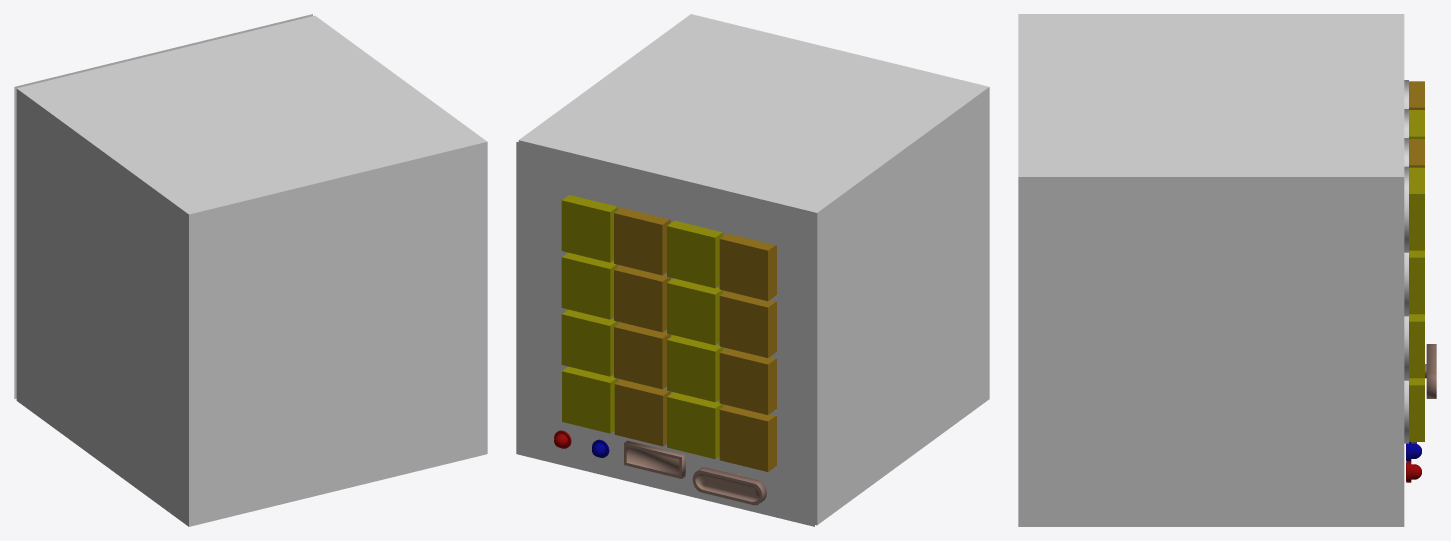
Rendered from Pipe Puzzle_P1_Box 03.FBX.
3 views of the same model, side by side, from view 1: azimuth 30°, elevation 25°; view 2: azimuth 150°, elevation 25°; view 3: azimuth 270°, elevation 25° (orthographic). The views are drawn at different scales.
Visible parts, largest first — view 1: Box Size001, Puzzle Plane 002 low; view 2: Box Size001, Puzzle Plane 002 low, pipe button 16, pipe button 14, pipe button 15, pipe button 13, pipe button 08, pipe button 12, pipe button 04, pipe button 06, pipe button 02, pipe button 10 (+8 smaller); view 3: Box Size001, Puzzle Plane 002 low, pipe button 04, pipe button 02, pipe button 03, pipe button 01, SOLVE 001.
Boxes of the visible parts, x1,y1,x2,y2 form: Box Size001: [16, 15, 487, 526]; Puzzle Plane 002 low: [14, 14, 312, 398]; Box Size001: [518, 14, 989, 525]; Puzzle Plane 002 low: [516, 142, 814, 526]; pipe button 16: [719, 233, 776, 301]; pipe button 14: [719, 348, 776, 414]; pipe button 15: [719, 291, 776, 357]; pipe button 13: [719, 405, 776, 471]; pipe button 08: [614, 207, 670, 275]; pipe button 12: [667, 220, 723, 288]; pipe button 04: [561, 195, 618, 262]; pipe button 06: [614, 322, 670, 389]; pipe button 02: [561, 309, 618, 376]; pipe button 10: [667, 335, 723, 402]; Box Size001: [1018, 14, 1404, 526]; Puzzle Plane 002 low: [1404, 80, 1408, 443]; pipe button 04: [1409, 167, 1424, 250]; pipe button 02: [1409, 314, 1424, 378]; pipe button 03: [1409, 250, 1424, 314]; pipe button 01: [1409, 378, 1424, 441]; SOLVE 001: [1425, 344, 1436, 398].
Size of the model in its own units: 3000 by 3000 by 3252.
